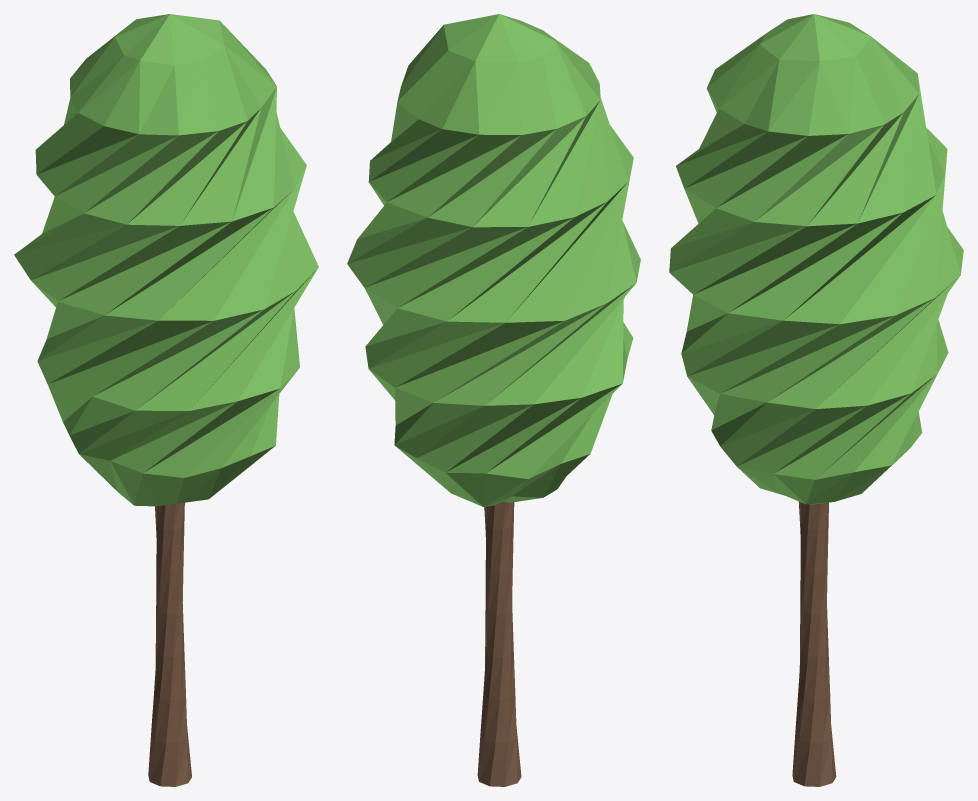
Rendered from low poly tree.fbx.
3 renders of one model, left to right at view 1: azimuth 30°, elevation 25°; view 2: azimuth 150°, elevation 25°; view 3: azimuth 270°, elevation 25°, orthographic.
Parts seen in each view (by area): view 1: leaves, trunk; view 2: leaves, trunk; view 3: leaves, trunk.
Part boxes in pixels (<box>): leaves: <box>14,14,318,506</box>; trunk: <box>148,502,191,786</box>; leaves: <box>347,14,640,506</box>; trunk: <box>477,502,521,786</box>; leaves: <box>669,14,963,504</box>; trunk: <box>792,501,836,786</box>.
Bounding box in the file's own units: 140 × 402 × 140.
